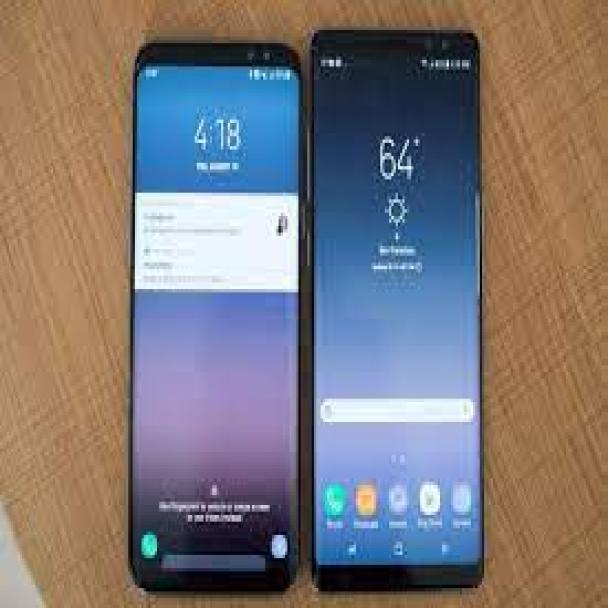Handphone: (306, 24, 484, 586), (126, 45, 299, 585)
